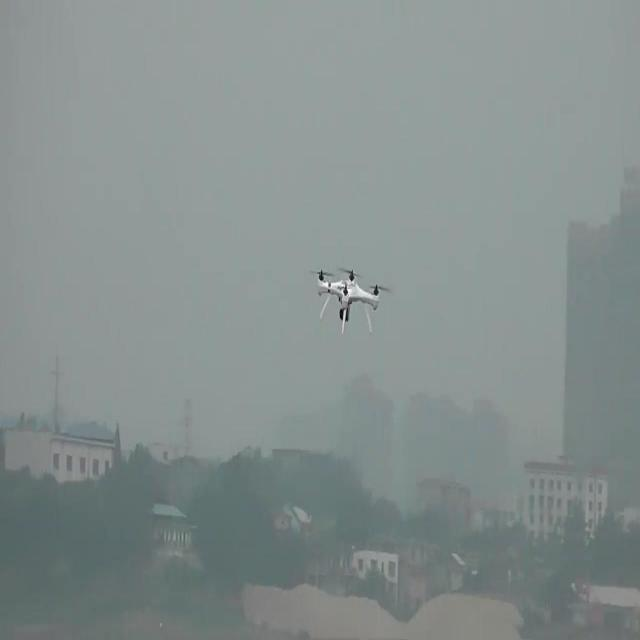UAV: (315, 265, 381, 336)
